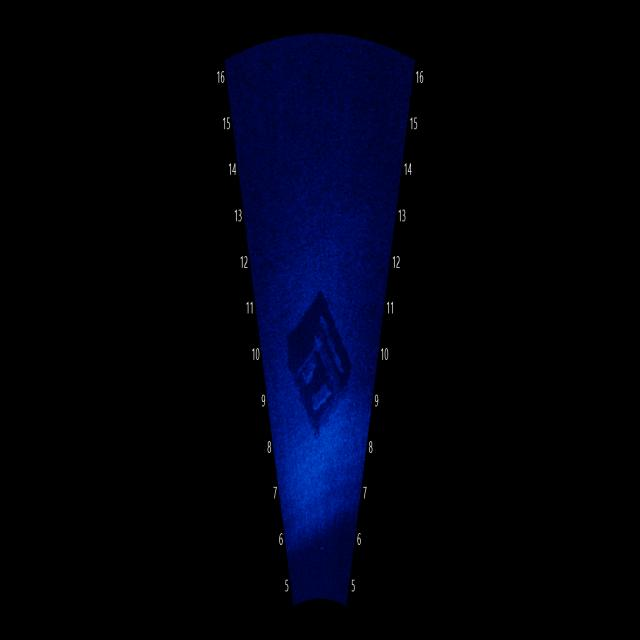square: (274, 274, 362, 441)
